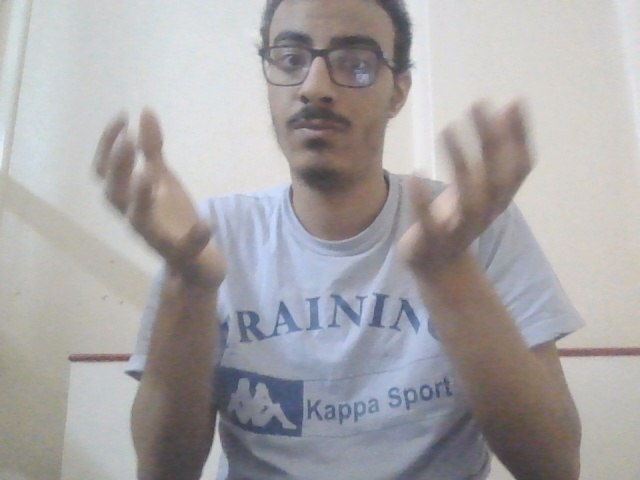What: (91, 98, 539, 280)
